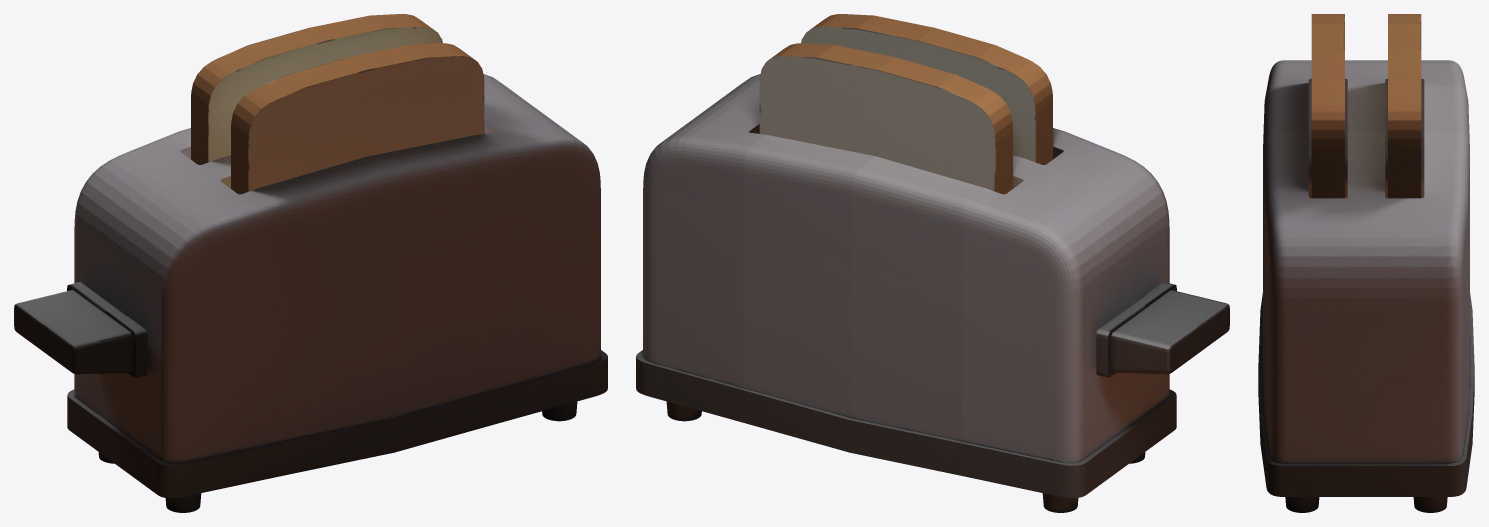
File: toaster.glb
3 views of the same model, side by side, from view 1: azimuth 30°, elevation 25°; view 2: azimuth 150°, elevation 25°; view 3: azimuth 270°, elevation 25° (orthographic). The views are drawn at different scales.
Visible parts, largest first — view 1: toaster; view 2: toaster; view 3: toaster.
Part boxes in pixels (x1,y1,x2,y2): toaster: (14,14,607,512); toaster: (636,14,1229,512); toaster: (1258,14,1474,512).
Size of the model in its own units: 2.74 by 1.95 by 1.04.
4 materials, 4 textured.
